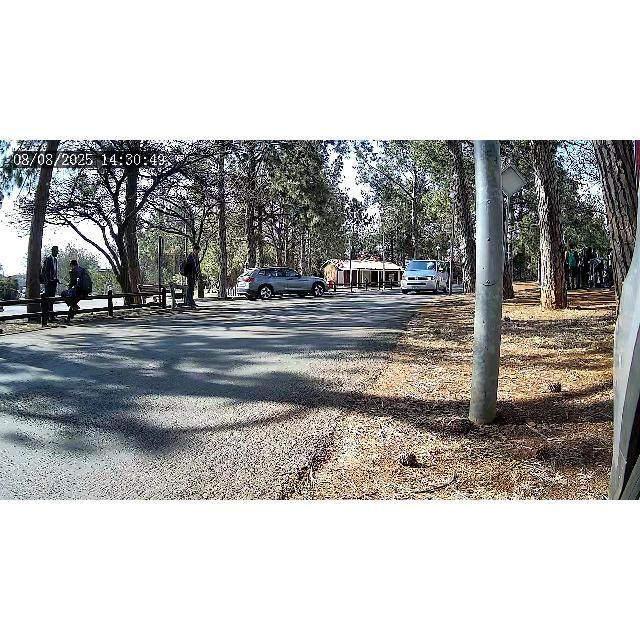car: (234, 267, 328, 301), (399, 260, 449, 296)
